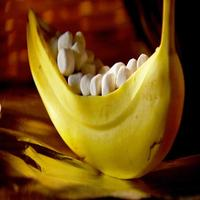banane: (20, 1, 190, 182)
